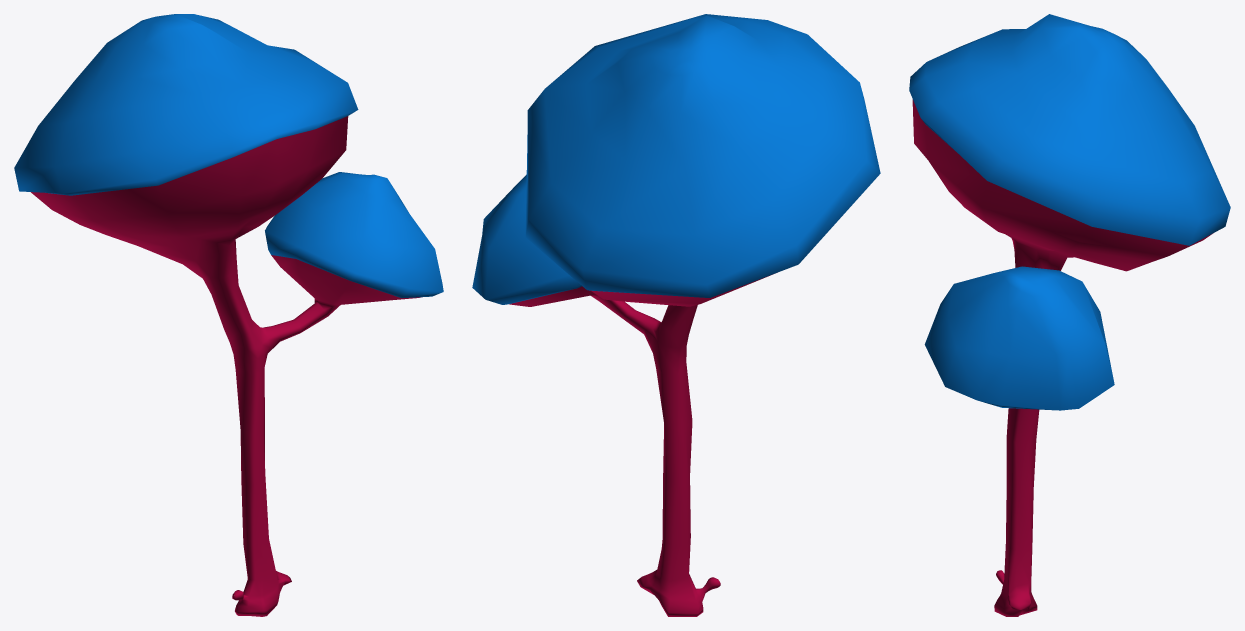
The model's file is HongoDecorativo2_LOWPOLY.fbx.
3 views of the same model, side by side, from view 1: azimuth 30°, elevation 25°; view 2: azimuth 150°, elevation 25°; view 3: azimuth 270°, elevation 25° (orthographic). The views are drawn at different scales.
Parts seen in each view (by area): view 1: HongoDecorativo2_LOWPOLY:HongoDecorativo1_LOW; view 2: HongoDecorativo2_LOWPOLY:HongoDecorativo1_LOW; view 3: HongoDecorativo2_LOWPOLY:HongoDecorativo1_LOW.
Part boxes in pixels (bbox=[...]): HongoDecorativo2_LOWPOLY:HongoDecorativo1_LOW: bbox=[14, 14, 443, 616]; HongoDecorativo2_LOWPOLY:HongoDecorativo1_LOW: bbox=[472, 14, 880, 616]; HongoDecorativo2_LOWPOLY:HongoDecorativo1_LOW: bbox=[909, 14, 1230, 616].
Size of the model in its own units: 75.84 by 116 by 59.82.
